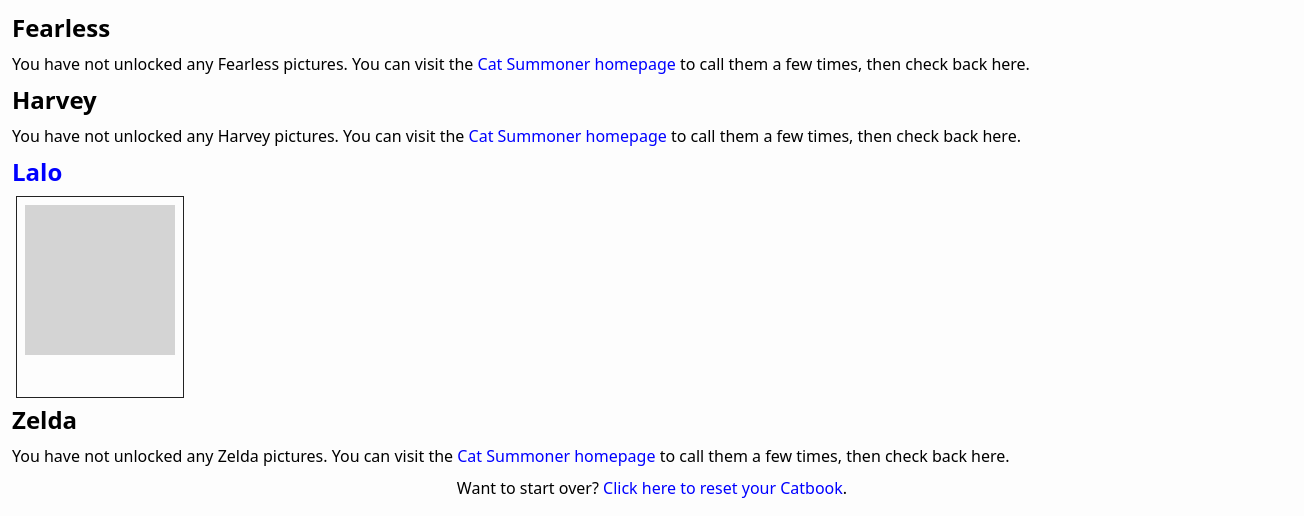
it: Clears the catbook and shows the empty state when reset is clicked
The image size is (1304, 516).
Click the button "Click here to reset your Catbook".
click(723, 488)  # box x1=603 y1=476 x2=843 y2=500
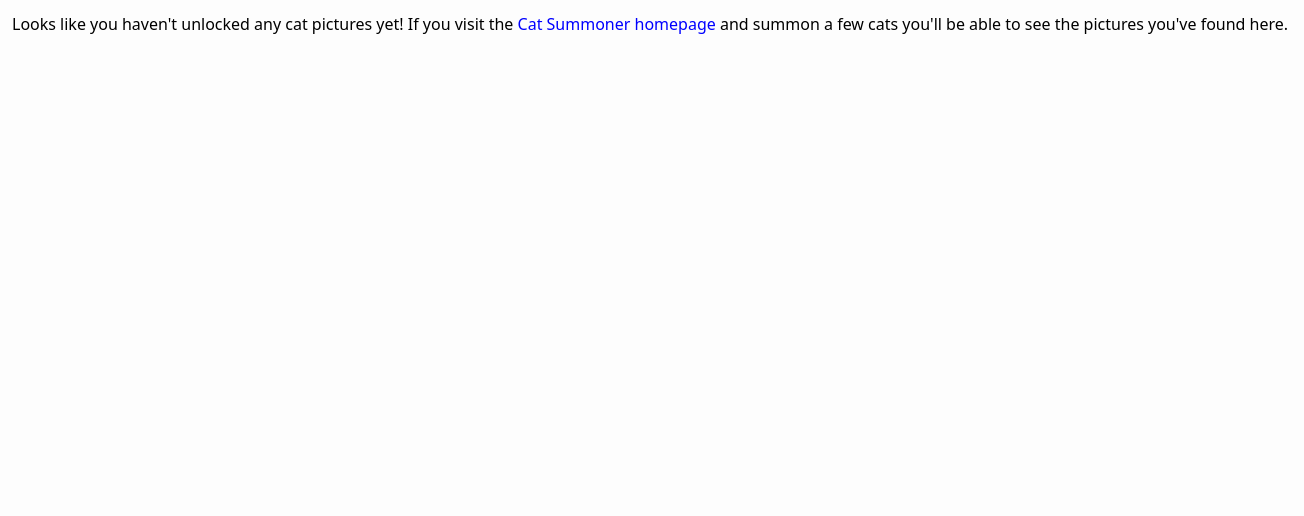
Expected: the text "you haven't unlocked any cat pictures" is shown, x1=12 y1=13 x2=518 y2=35
